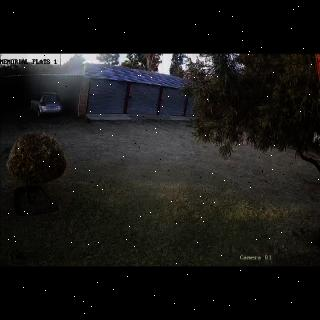car: (30, 93, 63, 118)
